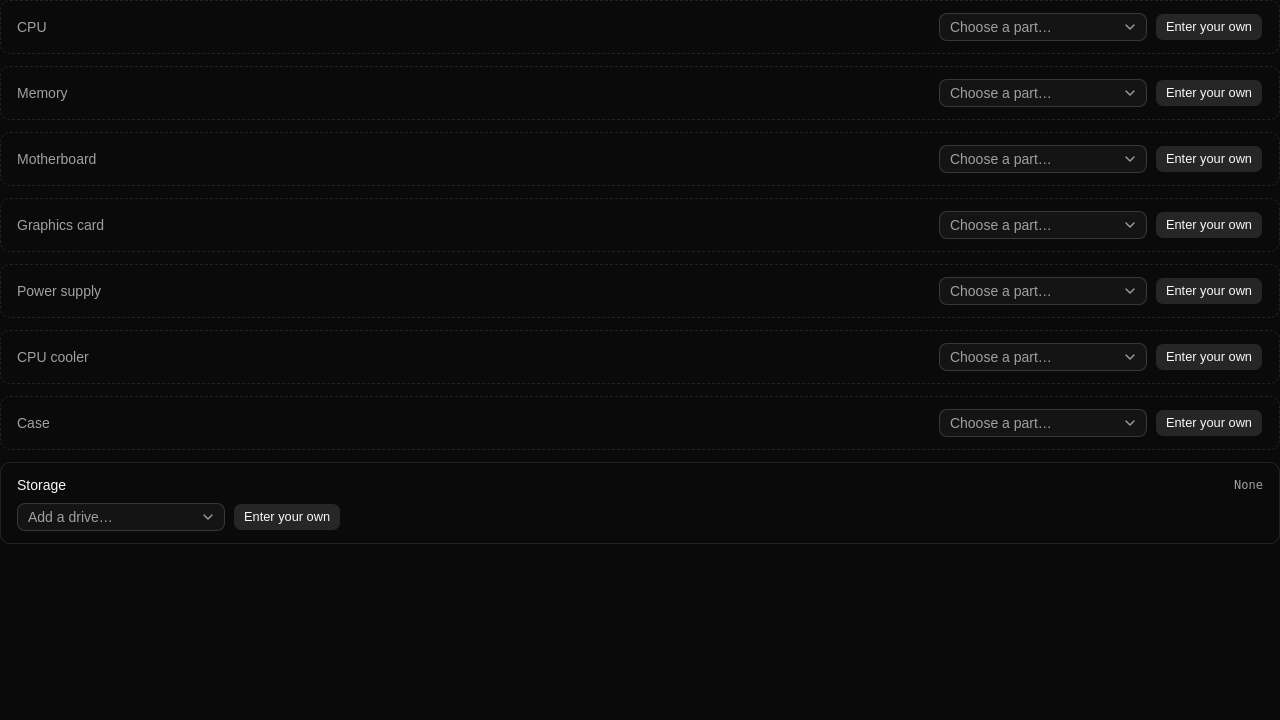
Scenario: buildPanel › removes a part
This screenshot has width=1280, height=720.
Click the 1st button "Enter your own" at coordinates (1209, 27), box [1155,13,1263,41]
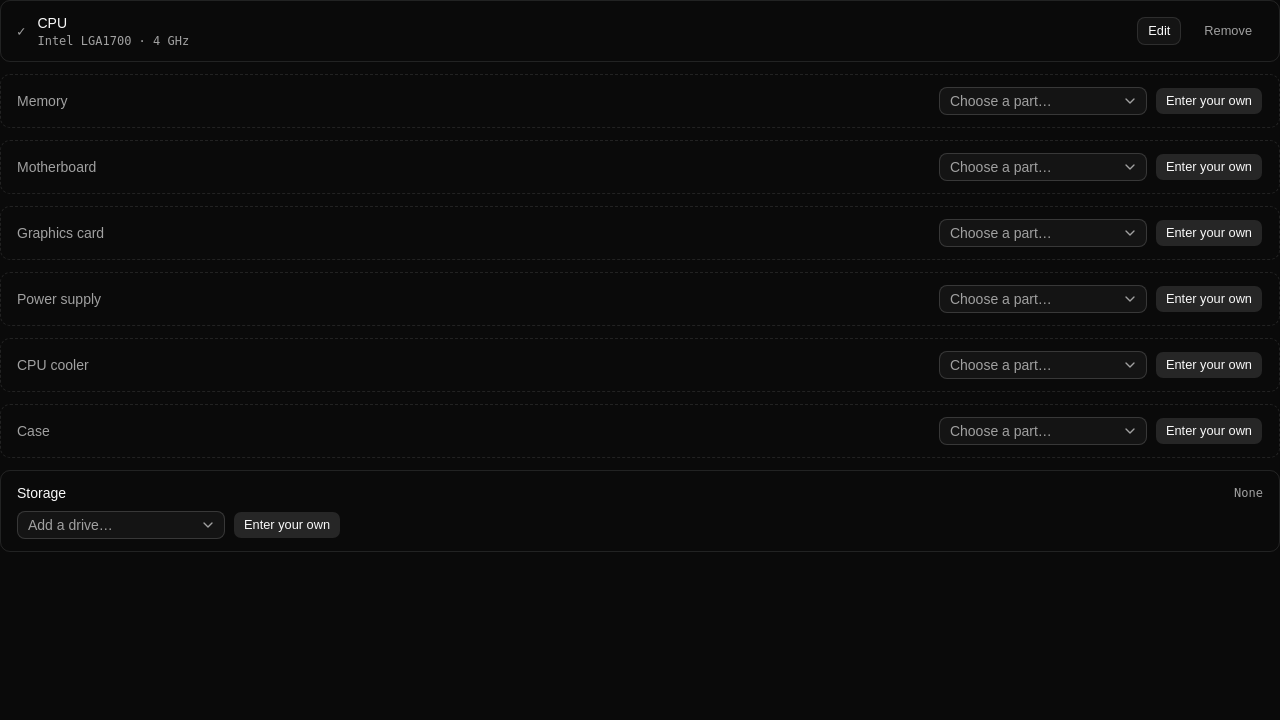
Check: the button "Edit" is shown, box [1137,17,1181,45]
Click the button "Remove" at coordinates (1228, 31), box [1193,17,1263,45]
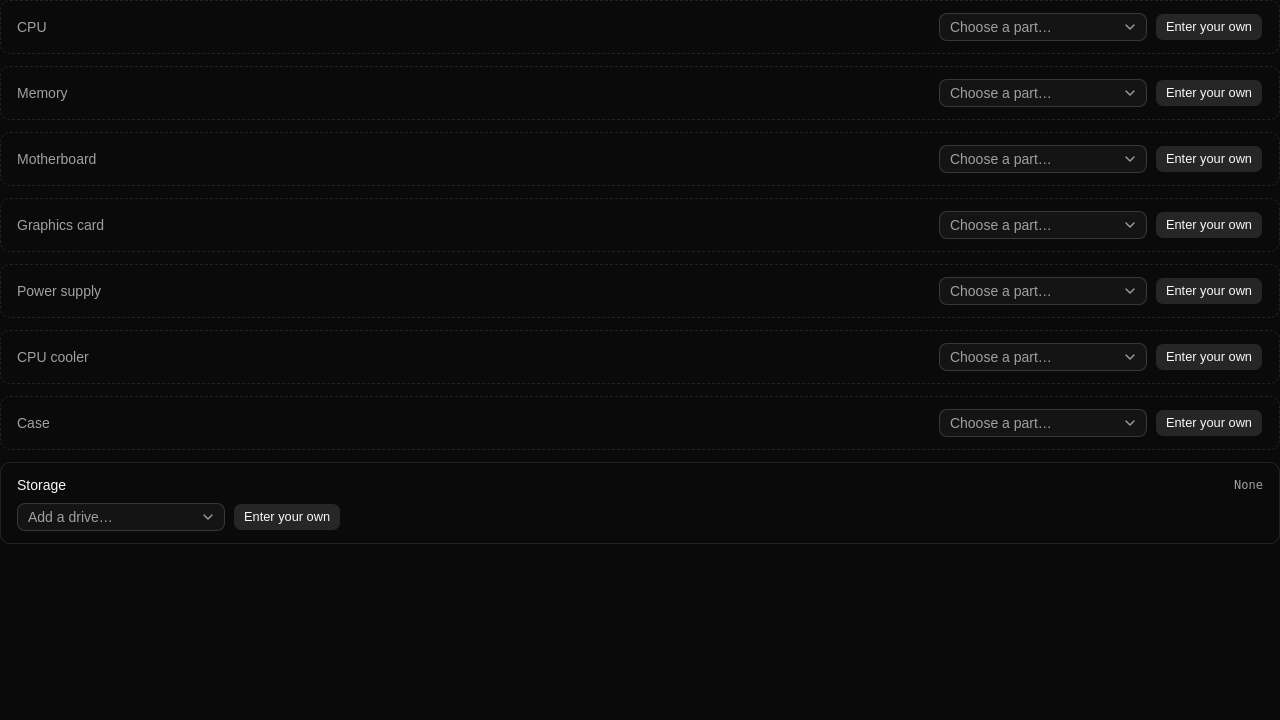
Check: the button "Edit" is gone
